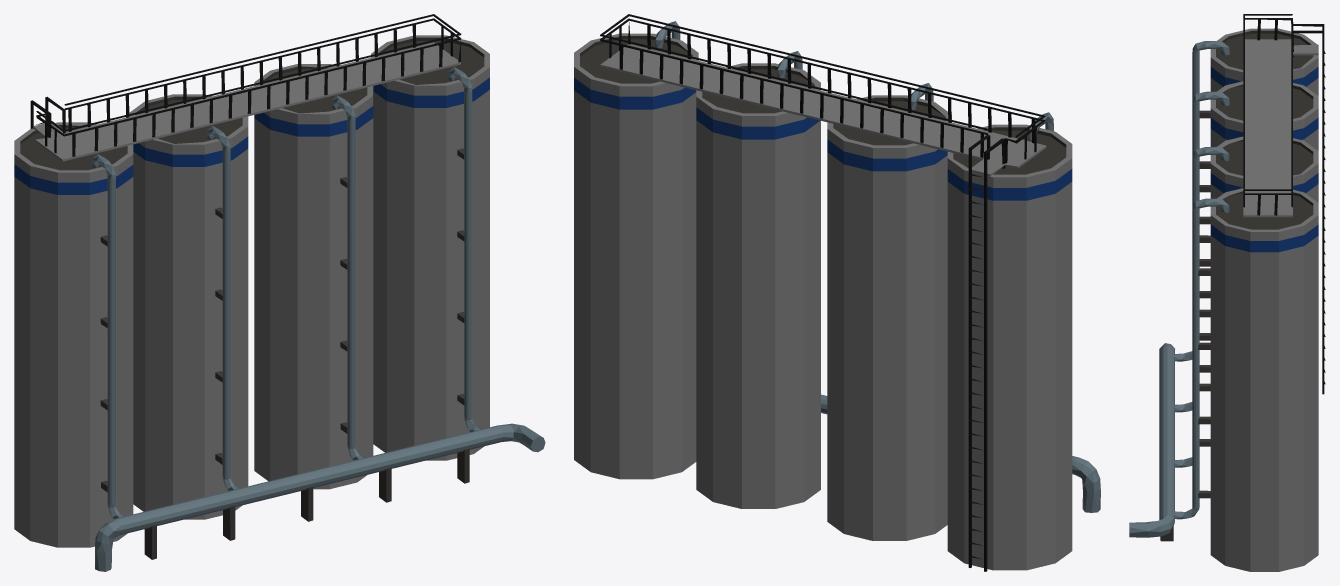
The model's file is SM_Factory_Tank_01.glb.
The picture shows the model from 3 angles, left to right: view 1: azimuth 30°, elevation 25°; view 2: azimuth 150°, elevation 25°; view 3: azimuth 270°, elevation 25°; orthographic projection. The views are drawn at different scales.
Parts seen in each view (by area): view 1: SM_Factory_Tank_01; view 2: SM_Factory_Tank_01; view 3: SM_Factory_Tank_01.
Part boxes in pixels (bbox=[...]): SM_Factory_Tank_01: bbox=[14, 14, 545, 571]; SM_Factory_Tank_01: bbox=[574, 14, 1100, 571]; SM_Factory_Tank_01: bbox=[1129, 14, 1325, 571].
Bounding box in the file's own units: 19.4 × 16.38 × 7.92.
1 material, 1 textured.
